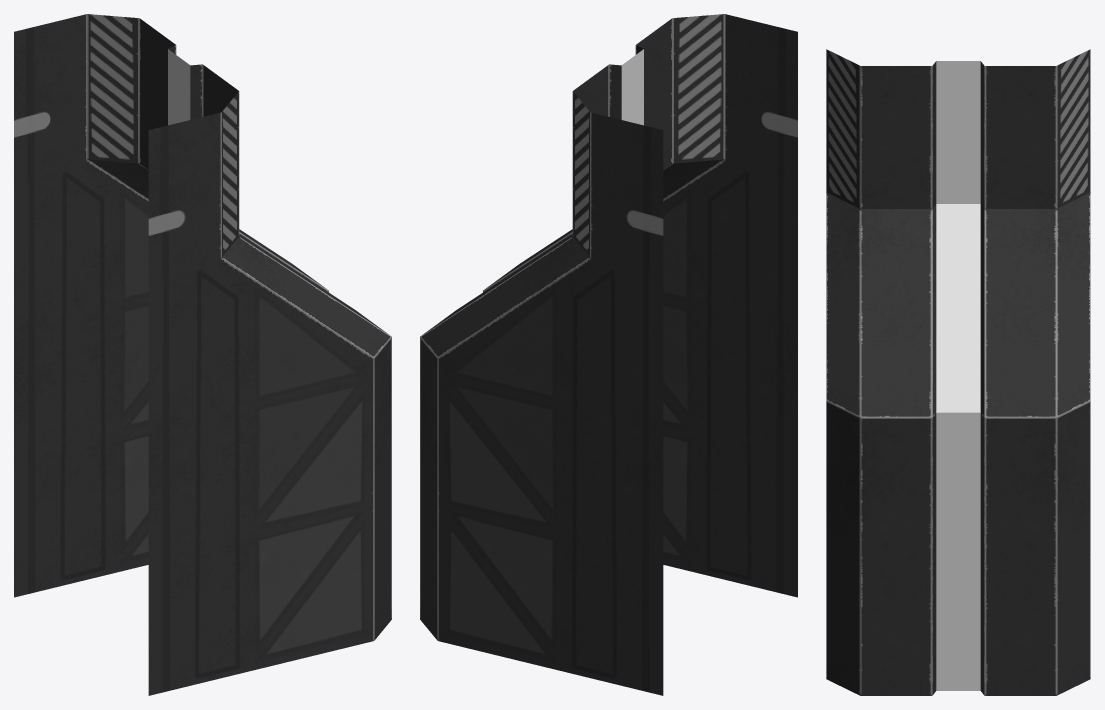
Rendered from Grand_frame_mid.fbx.
3 views of the same model, side by side, from view 1: azimuth 30°, elevation 25°; view 2: azimuth 150°, elevation 25°; view 3: azimuth 270°, elevation 25° (orthographic).
Parts seen in each view (by area): view 1: Grand_frame_mid009, light; view 2: Grand_frame_mid009, light; view 3: Grand_frame_mid009, light.
Part boxes in pixels (x1,y1,x2,y2): Grand_frame_mid009: (14, 14, 391, 695); light: (168, 49, 190, 125); Grand_frame_mid009: (420, 14, 797, 695); light: (621, 49, 643, 125); Grand_frame_mid009: (826, 49, 1090, 695); light: (936, 61, 980, 690).
Bounding box in the file's own units: 96.47 × 200 × 86.13.
